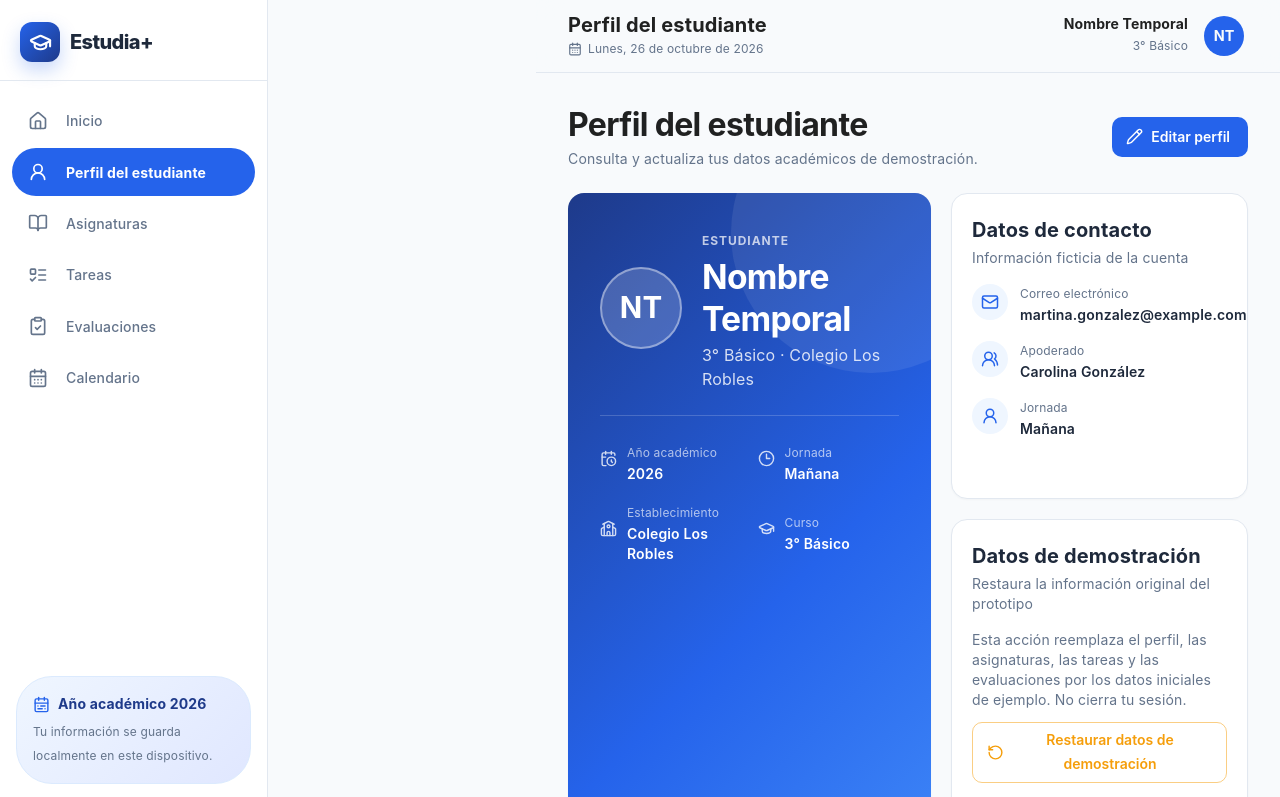
Test: perfil del estudiante › restaura los datos de demostración con confirmación
The width and height of the screenshot is (1280, 797).
Expected: the text "Nombre Temporal" is shown, [1064,15,1188,33]
Click the button "Restaurar datos de demostración" at (1100, 752), box [972,722,1227,783]
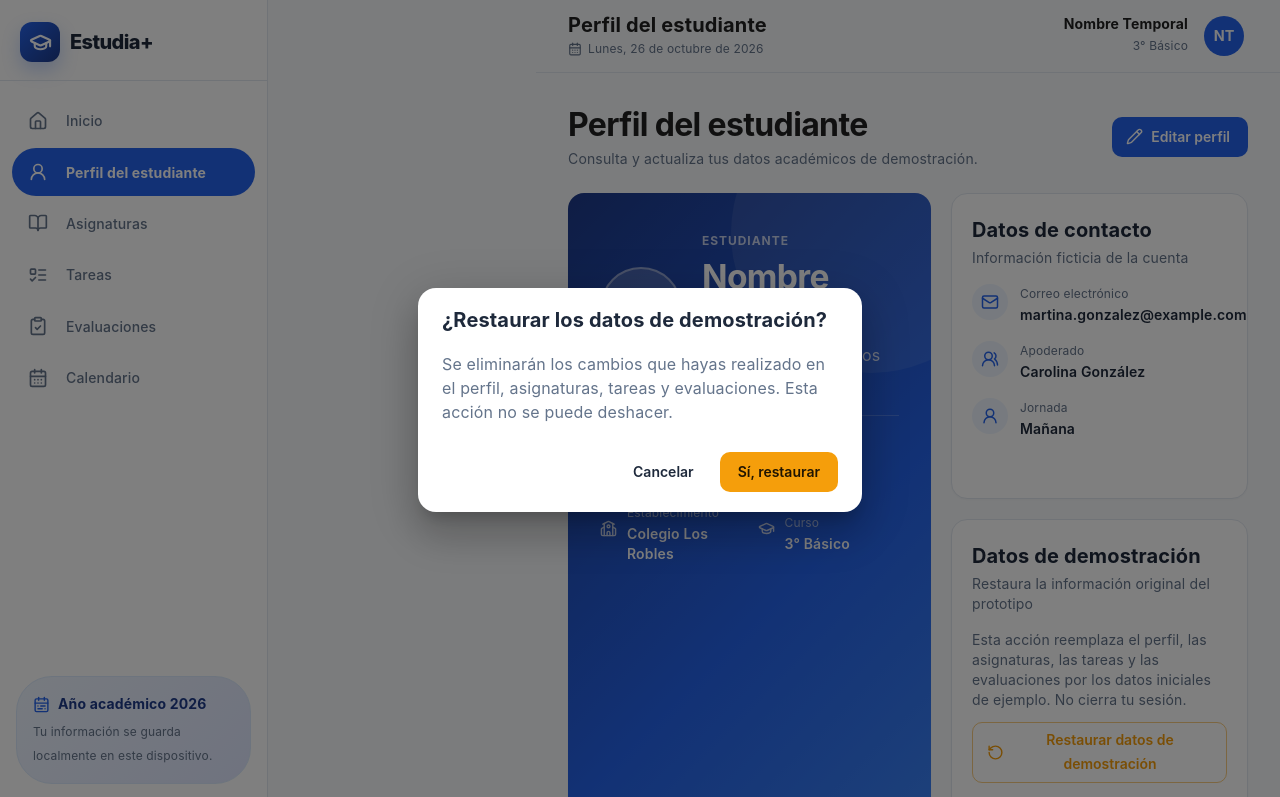
Click the button "Sí, restaurar" at (779, 472), box [720,452,838,492]
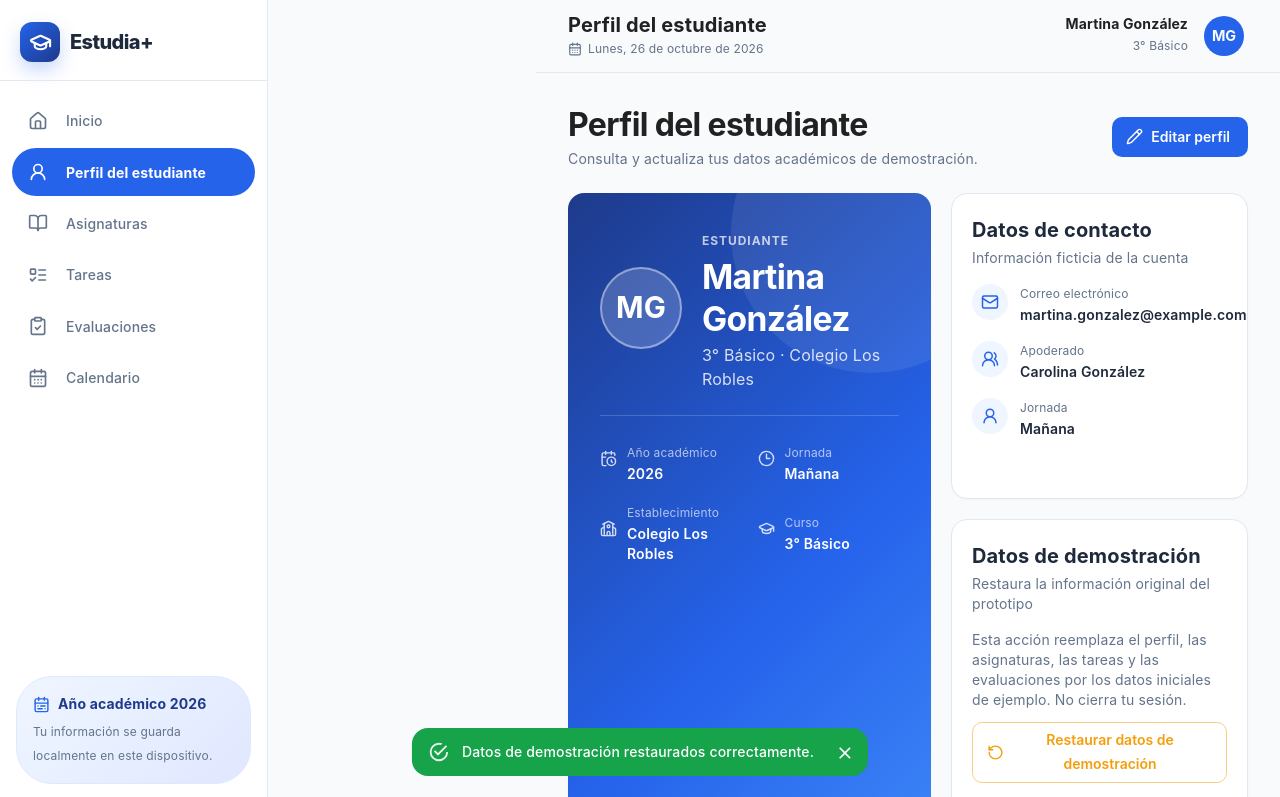
Expected: the text "Martina González" is shown, [1066,15,1188,33]
